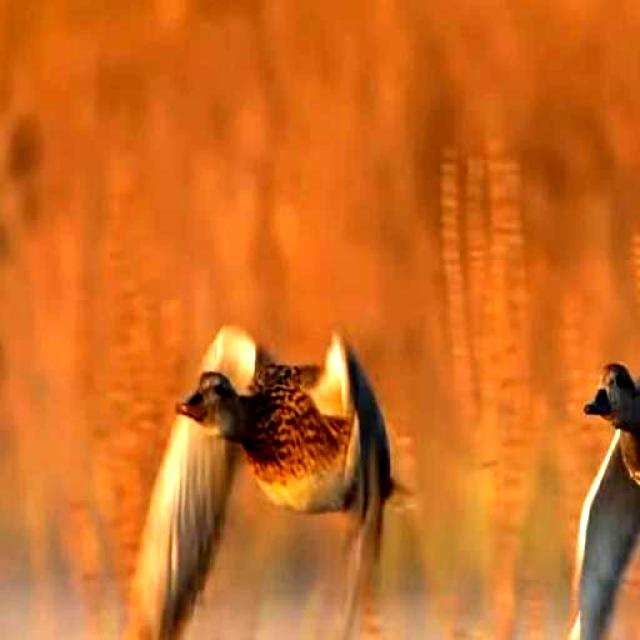airplane: (129, 311, 400, 640)
